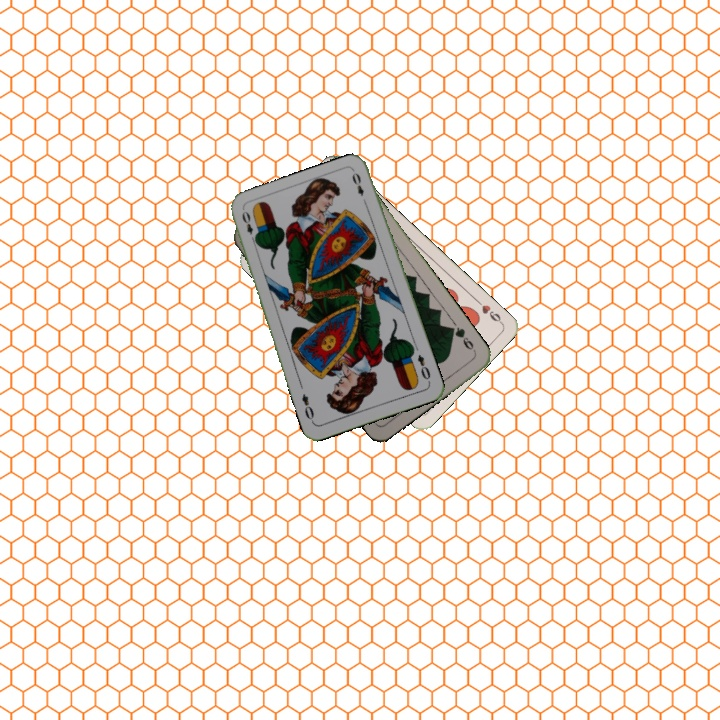EO: (238, 207, 259, 246), (413, 350, 433, 385)
G9: (446, 322, 479, 356)
H9: (471, 295, 505, 326)
